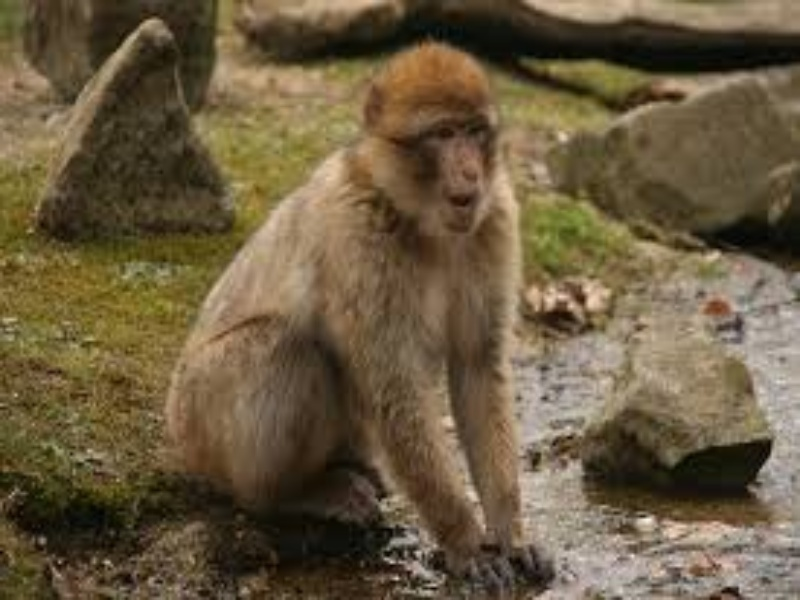monkey: (150, 33, 629, 591)
